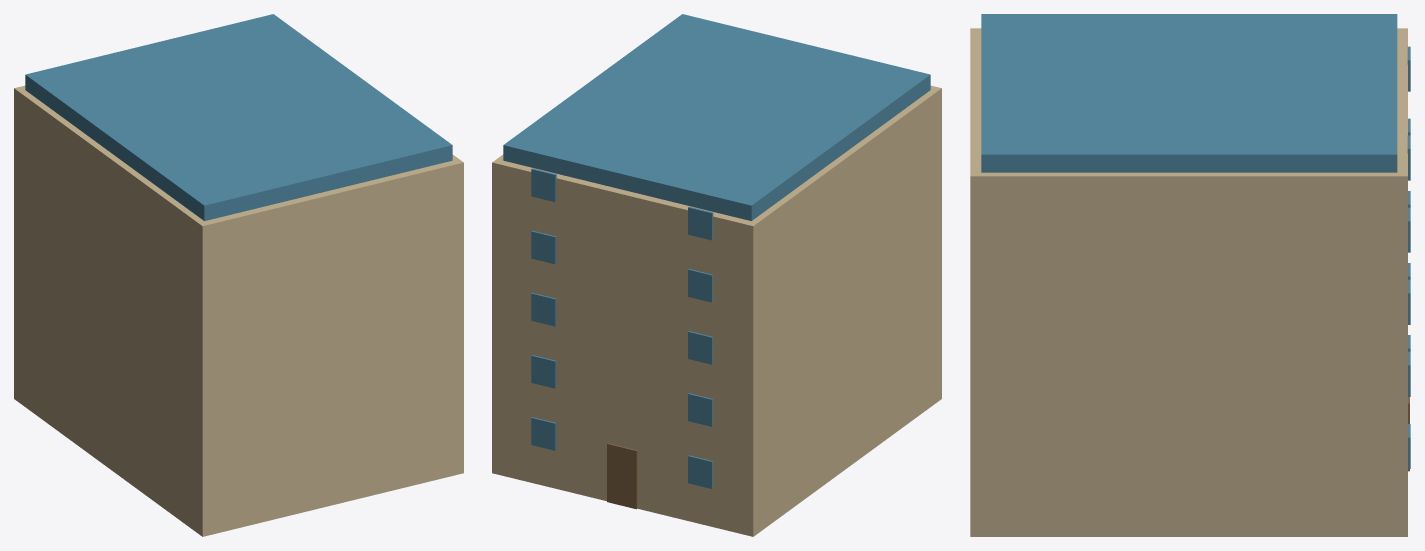
Rendered from hotel.glb.
The picture shows the model from 3 angles, left to right: view 1: azimuth 30°, elevation 25°; view 2: azimuth 150°, elevation 25°; view 3: azimuth 270°, elevation 25°; orthographic projection. The views are drawn at different scales.
Size of the model in its own units: 7.04 by 8.4 by 8.85.
